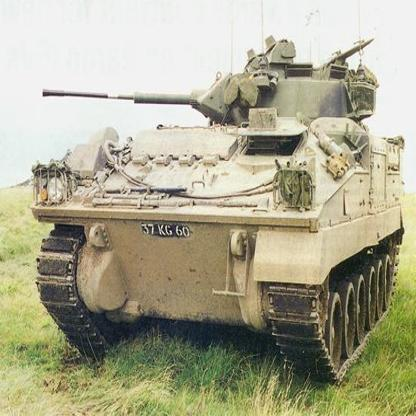Tank: (34, 35, 409, 385)
